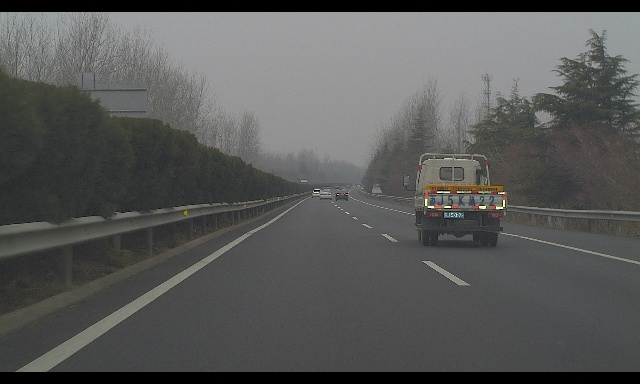car: (335, 190, 349, 201), (319, 190, 332, 200), (372, 184, 383, 195), (312, 189, 322, 198), (336, 189, 345, 196), (323, 187, 330, 192)
truck: (403, 153, 508, 246), (301, 178, 309, 188)
